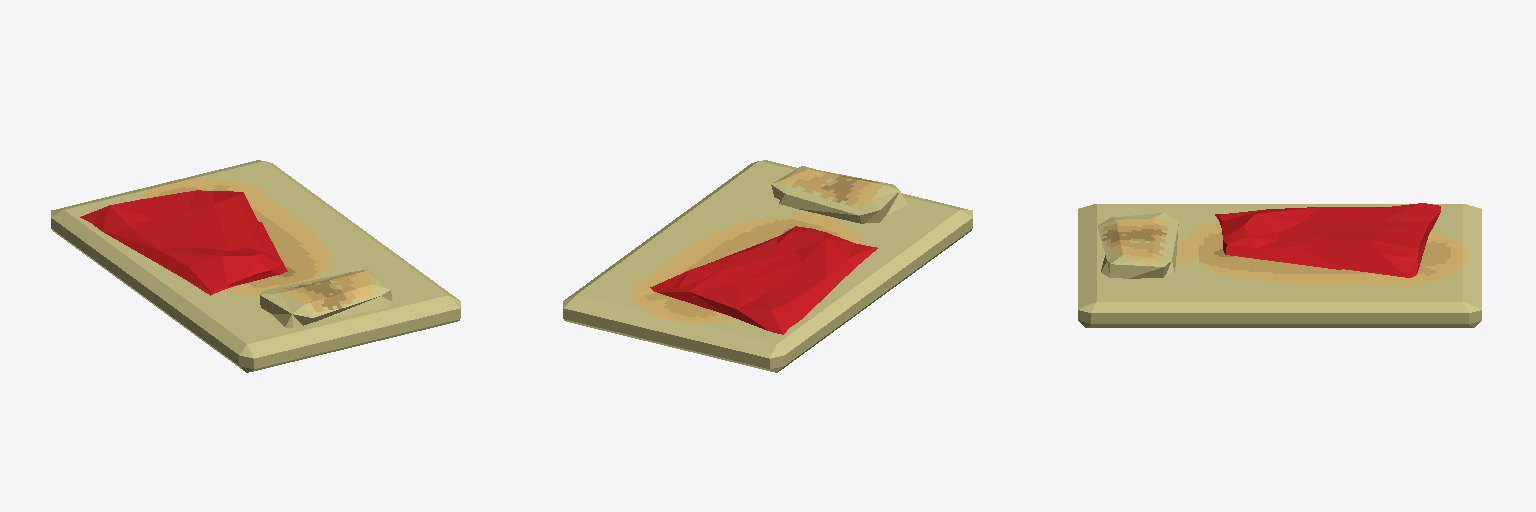
The picture shows the model from 3 angles: view 1: azimuth 30°, elevation 25°; view 2: azimuth 150°, elevation 25°; view 3: azimuth 270°, elevation 25°; orthographic projection.
Visible parts, largest first — view 1: Mattress_Cube; view 2: Mattress_Cube; view 3: Mattress_Cube.
Boxes of the visible parts, x1,y1,x2,y2 form: Mattress_Cube: [51, 160, 460, 372]; Mattress_Cube: [563, 160, 972, 372]; Mattress_Cube: [1078, 203, 1481, 327].
Size of the model in its own units: 1.85 by 0.3227 by 2.92.
1 materials, 1 textured.